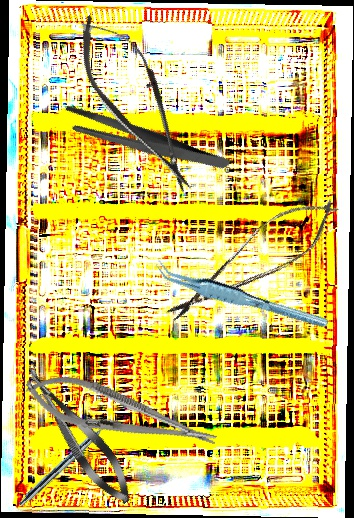Dressing Forceps: (57, 71, 232, 210)
Handpiece: (17, 415, 117, 510)
Micro Scissor: (59, 0, 216, 207), (154, 182, 352, 340), (15, 356, 142, 512)
Needle Holder: (19, 363, 222, 465)
Tissue Forceps: (151, 245, 330, 348)
